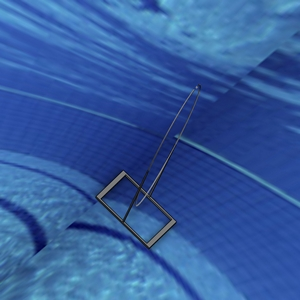circle: (93, 81, 212, 248)
